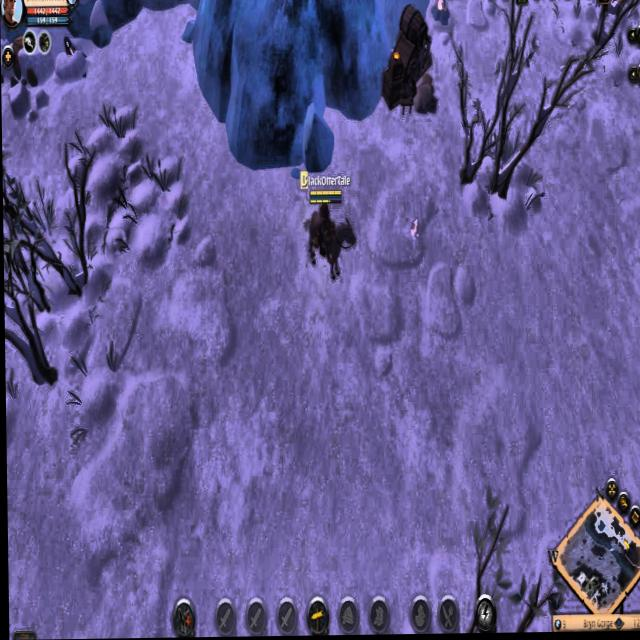copperore: (59, 32, 82, 66), (431, 0, 452, 28)
